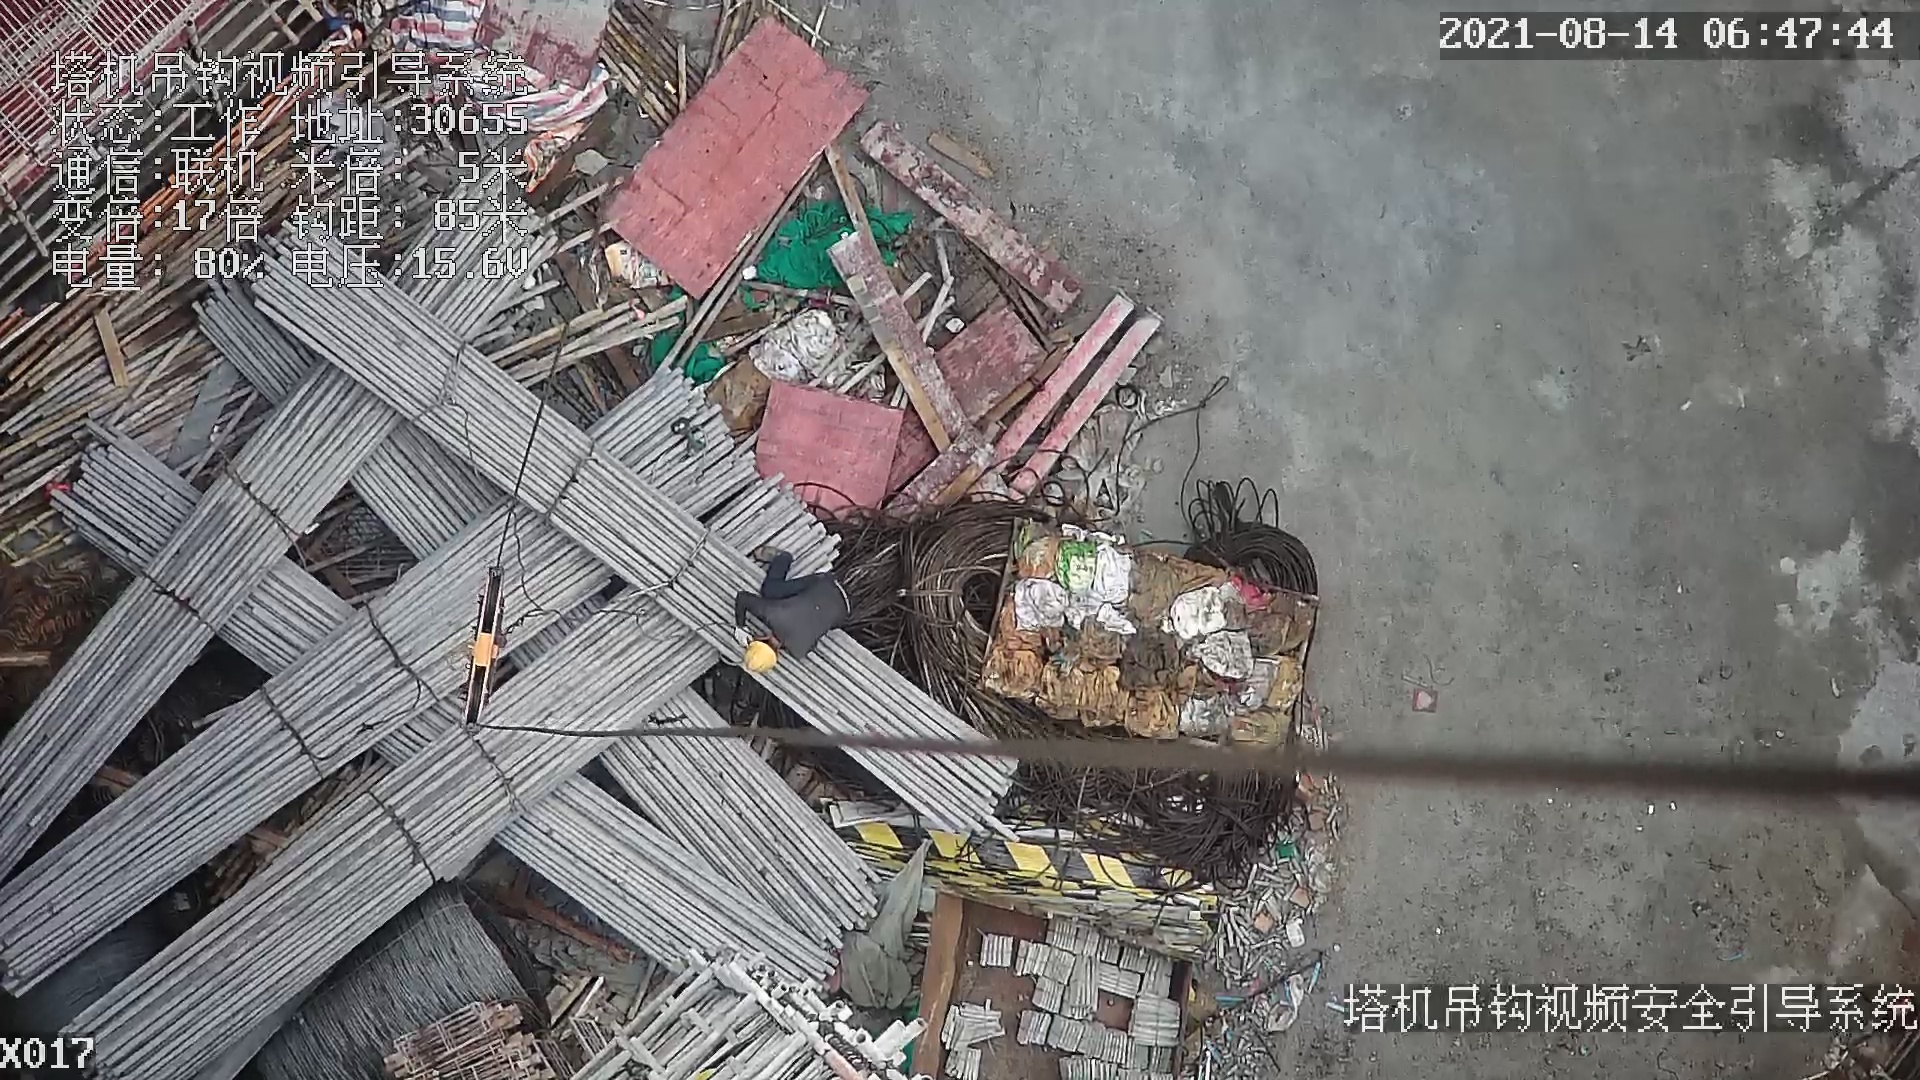board: (591, 9, 871, 311)
helmet: (744, 641, 782, 679)
hook: (451, 556, 503, 732)
person: (728, 546, 854, 672)
